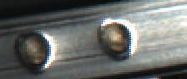joints: (93, 16, 137, 61), (14, 28, 56, 73)
